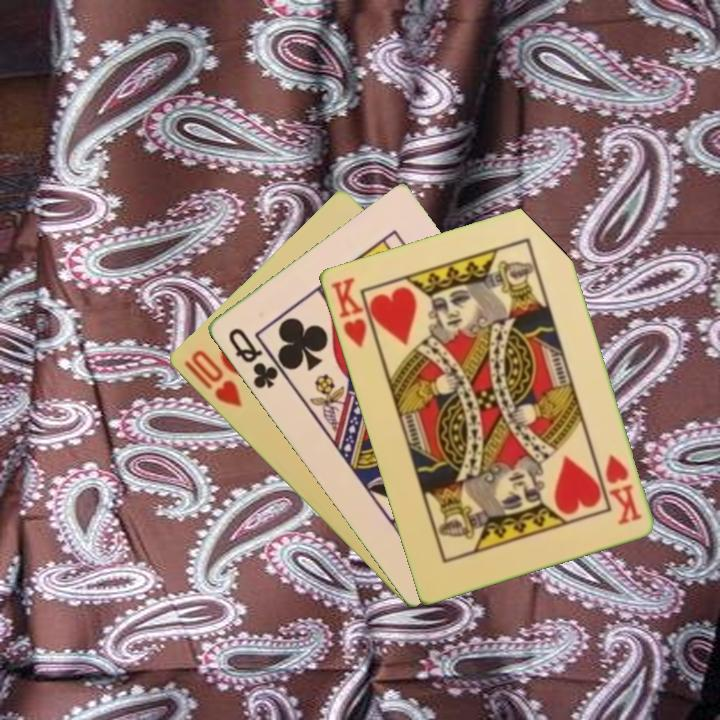10h: (180, 346, 245, 411)
Kh: (327, 273, 380, 351), (601, 450, 644, 528)
Qc: (224, 324, 288, 392)
